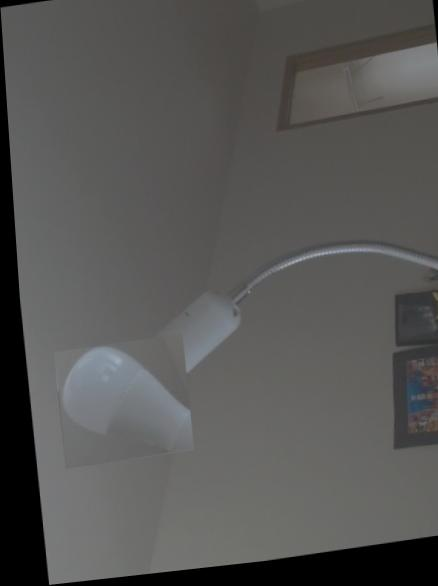Fan: (48, 337, 188, 470)
